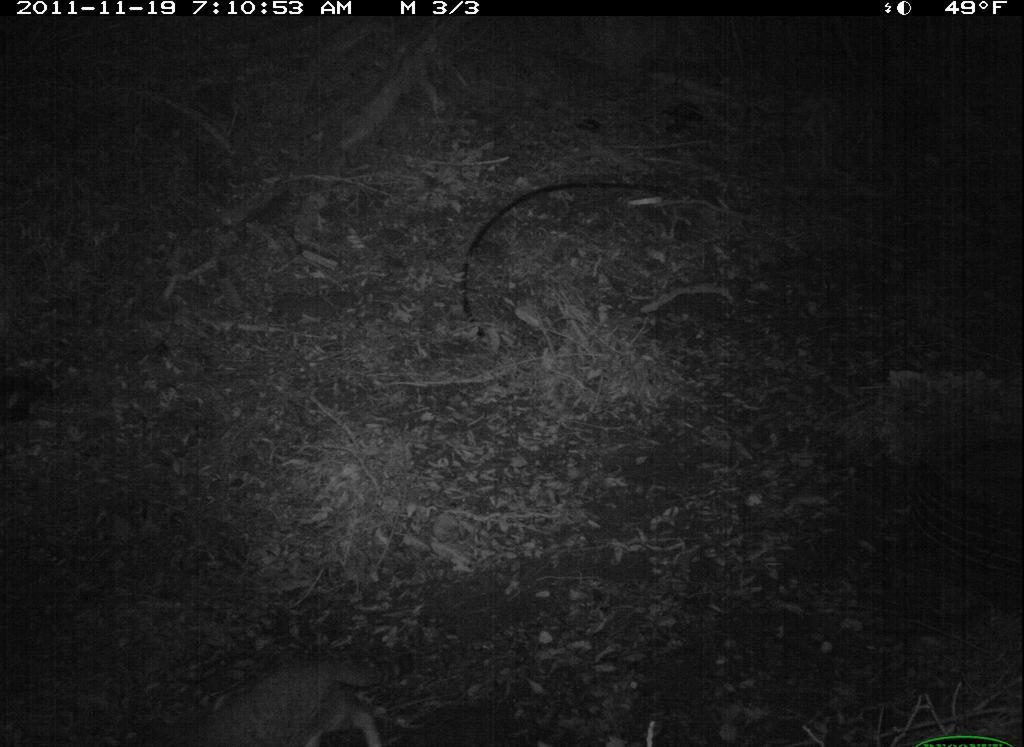cat: (158, 636, 432, 747)
